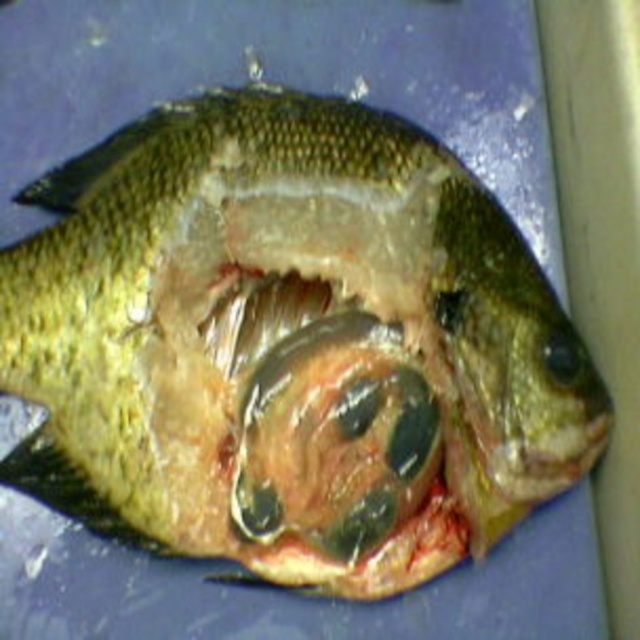Fish: (0, 79, 617, 604)
